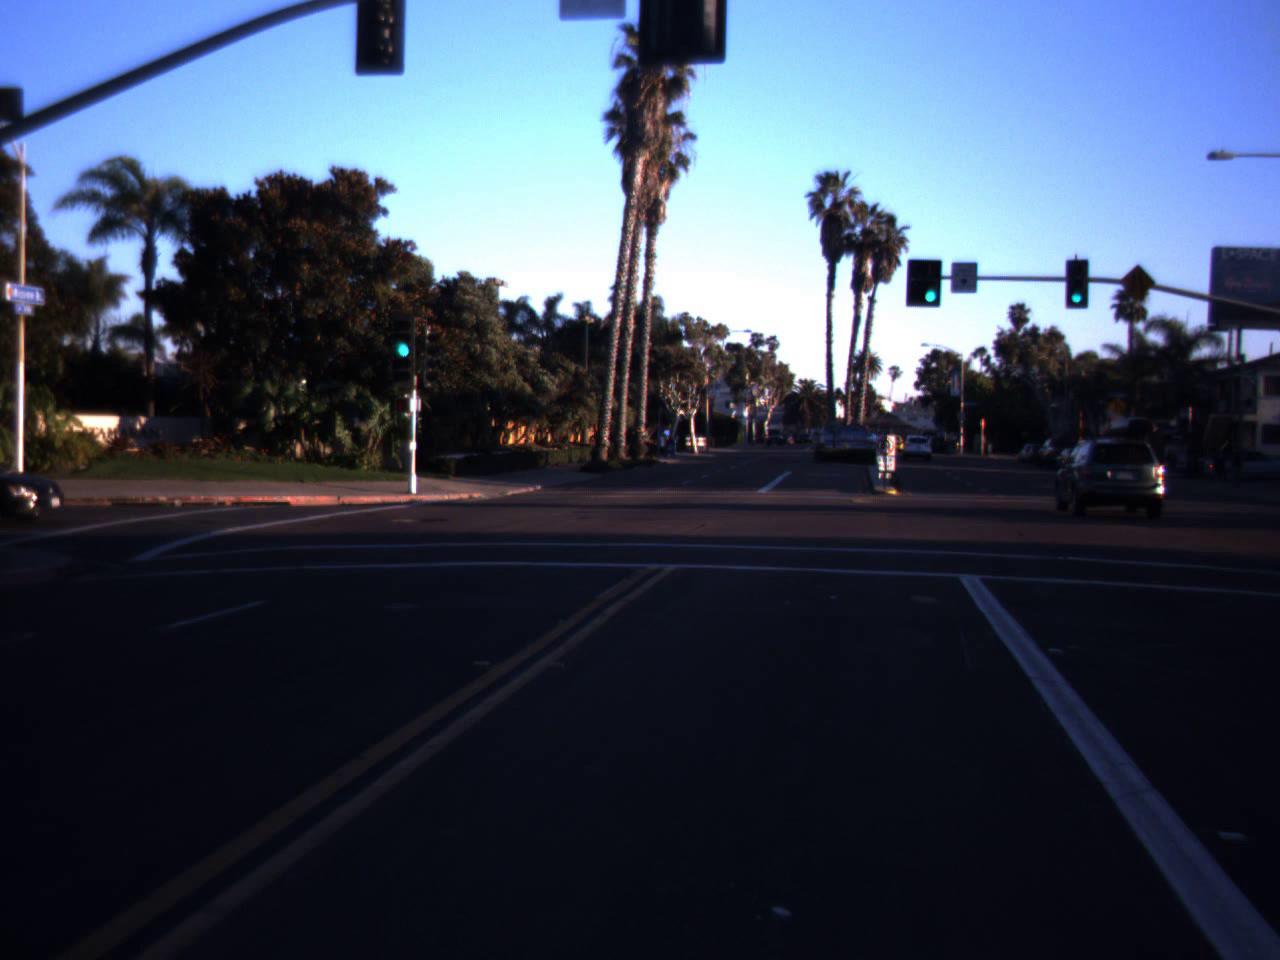go: (390, 306, 417, 361), (917, 260, 944, 305), (1066, 275, 1087, 305)
